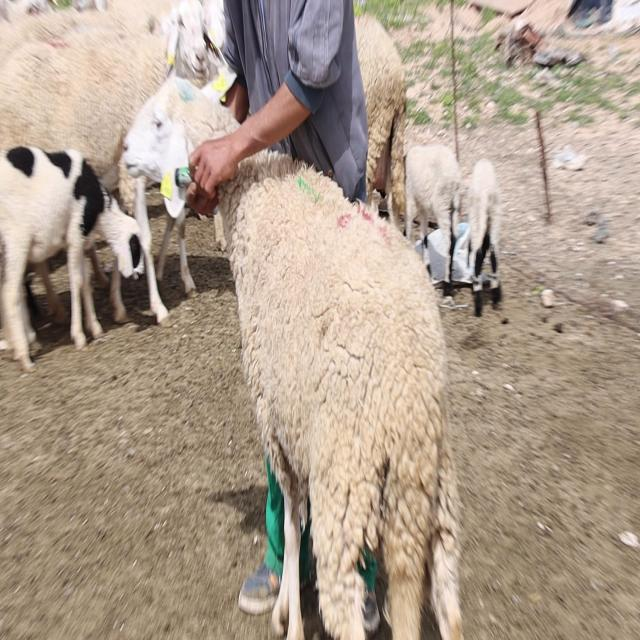Score_2: (220, 156, 462, 639)
